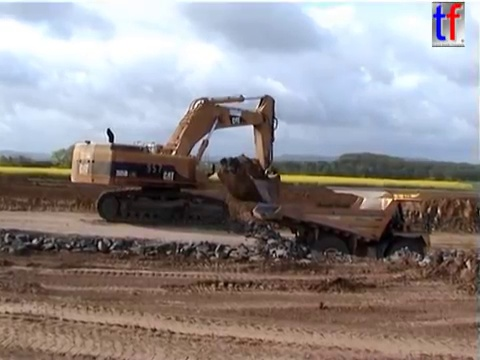excavator: (68, 92, 283, 228), (250, 190, 434, 279)
